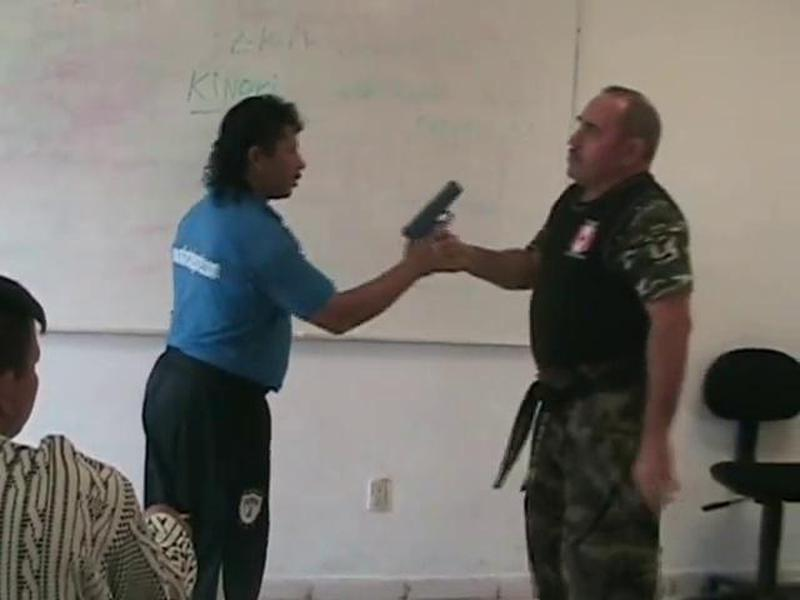Pistola: (381, 160, 466, 277)
